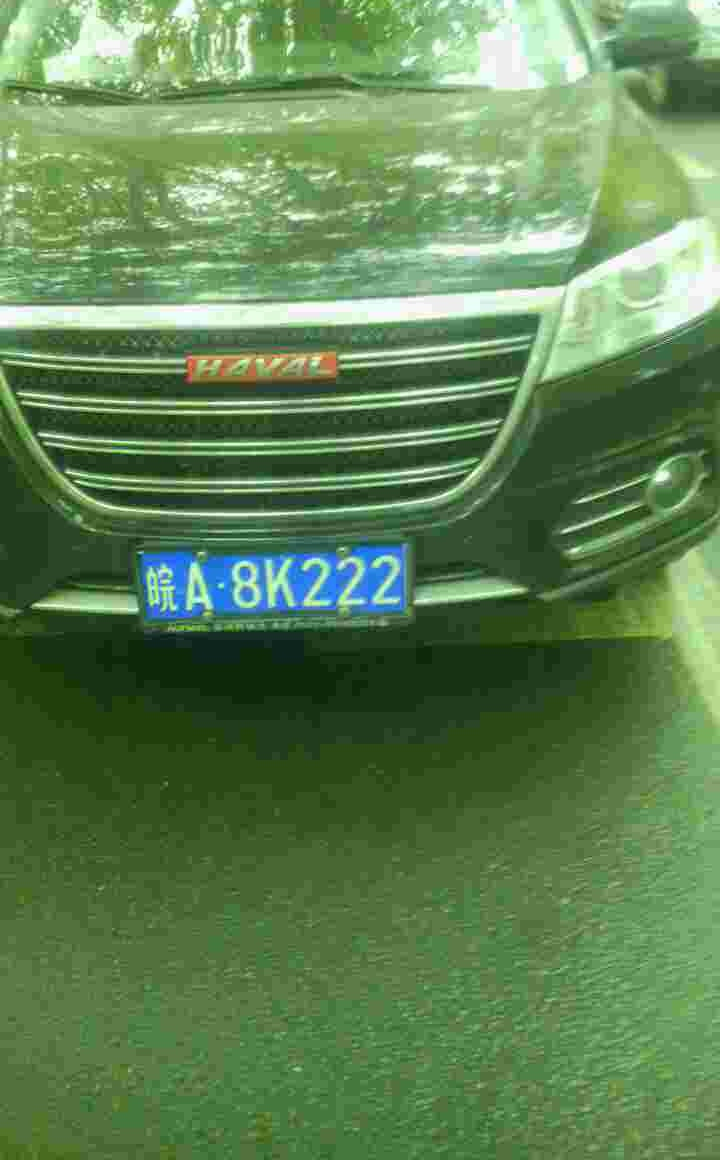license_plate: (148, 540, 396, 621)
